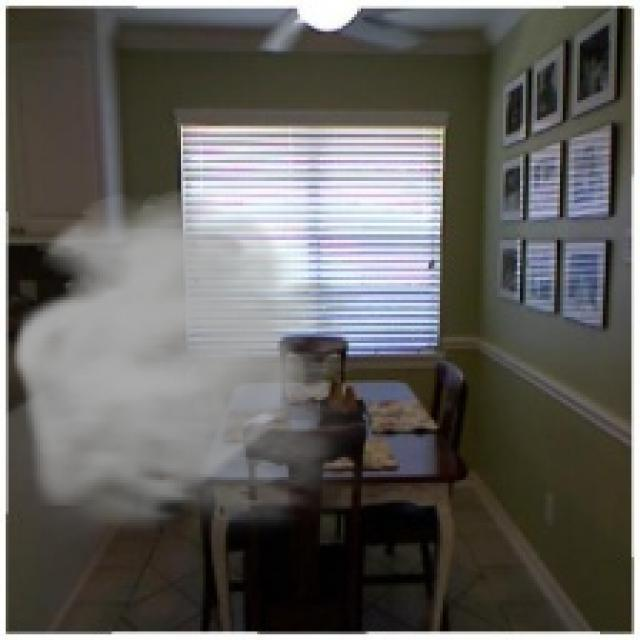Smoke: (6, 188, 400, 554)
